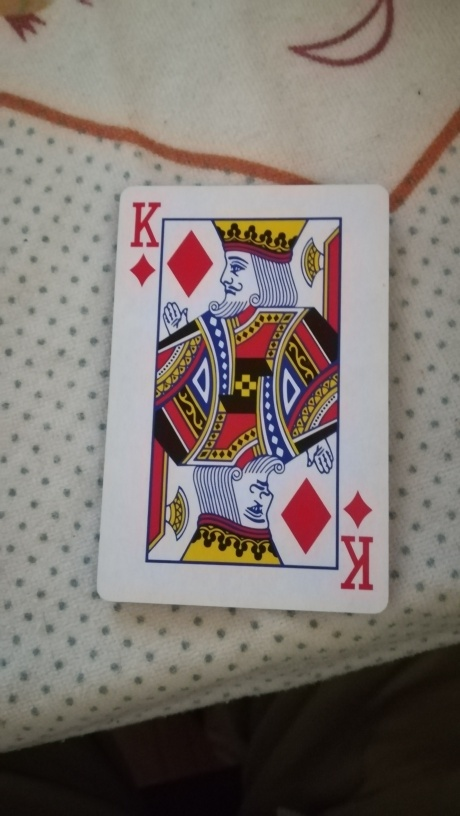fk k: (97, 185, 390, 617)
